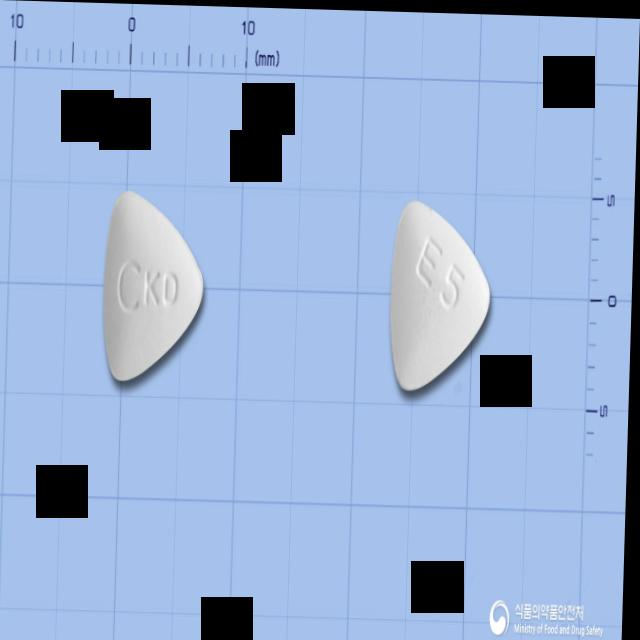Entecabell - 1mg: (101, 187, 208, 384), (390, 197, 495, 389)
